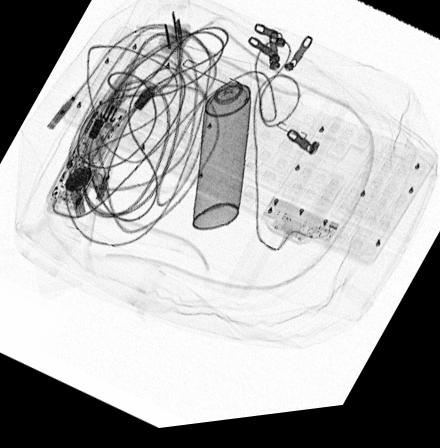Sprayer: (191, 64, 251, 237)
